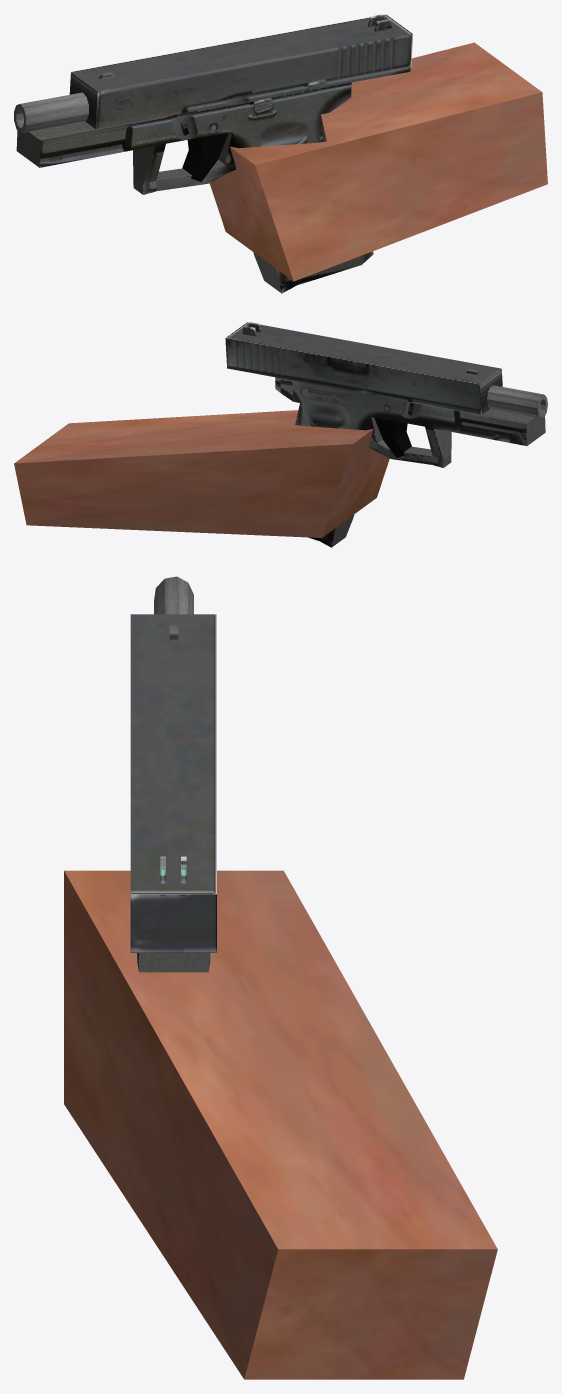
File: pistol_000006.obj
The picture shows the model from 3 angles, top to bottom: view 1: azimuth 30°, elevation 25°; view 2: azimuth 150°, elevation 25°; view 3: azimuth 270°, elevation 25°; orthographic projection. The views are drawn at different scales.
Visible parts, largest first — view 1: Cube, Cube.001, Cube.003; view 2: Cube, Cube.001, Cube.003; view 3: Cube, Cube.001.
Boxes of the visible parts, x1,y1,x2,y2 form: Cube: (14,42,547,293); Cube.001: (69,14,413,129); Cube.003: (182,132,228,181); Cube: (14,377,547,547); Cube.001: (225,322,502,414); Cube.003: (374,417,411,457); Cube: (64,576,497,1379); Cube.001: (130,614,216,952).
Size of the model in its own units: 1.72 by 0.752 by 0.7214.
